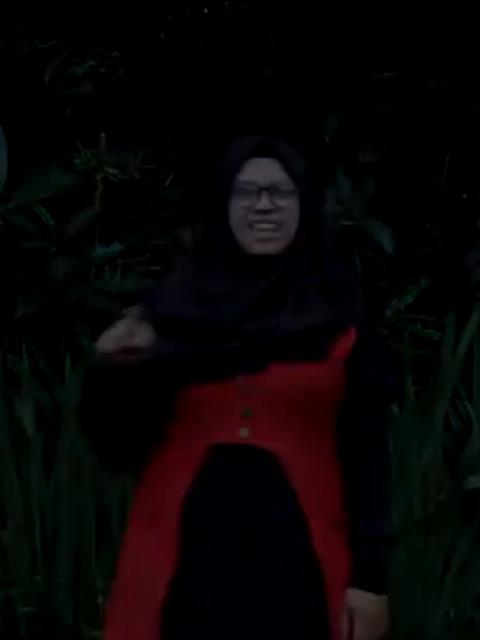Z: (88, 302, 156, 361)
